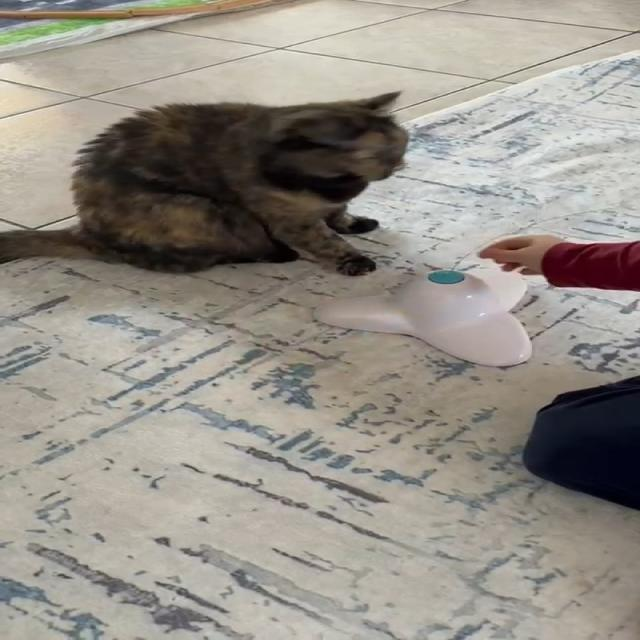authorized: (0, 89, 411, 276)
